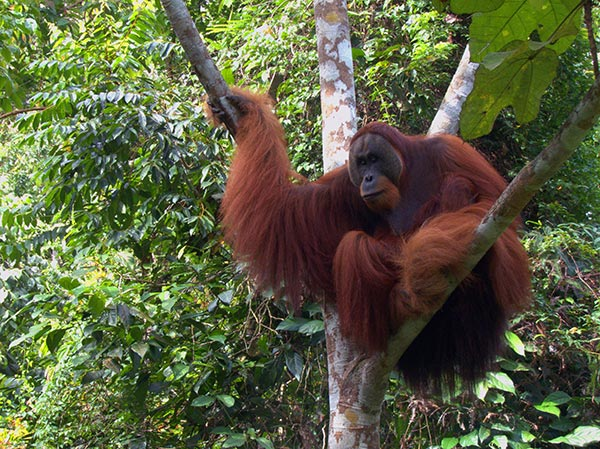Orangutan: (241, 108, 535, 361)
